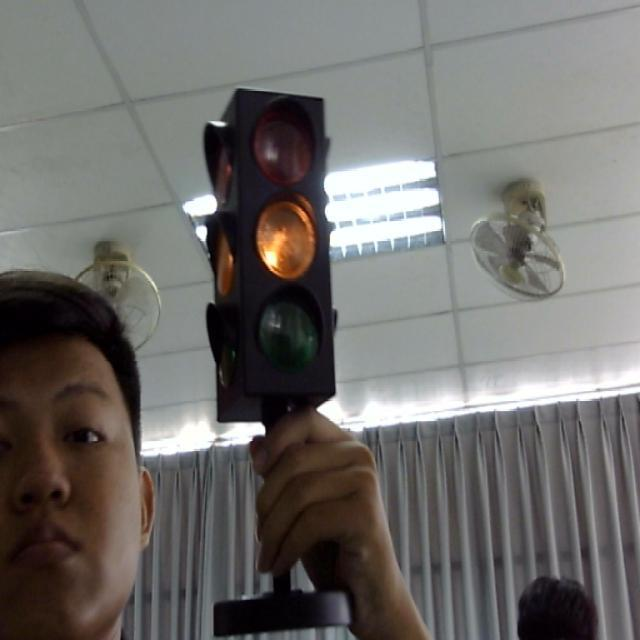yellow_light: (197, 80, 347, 425)
